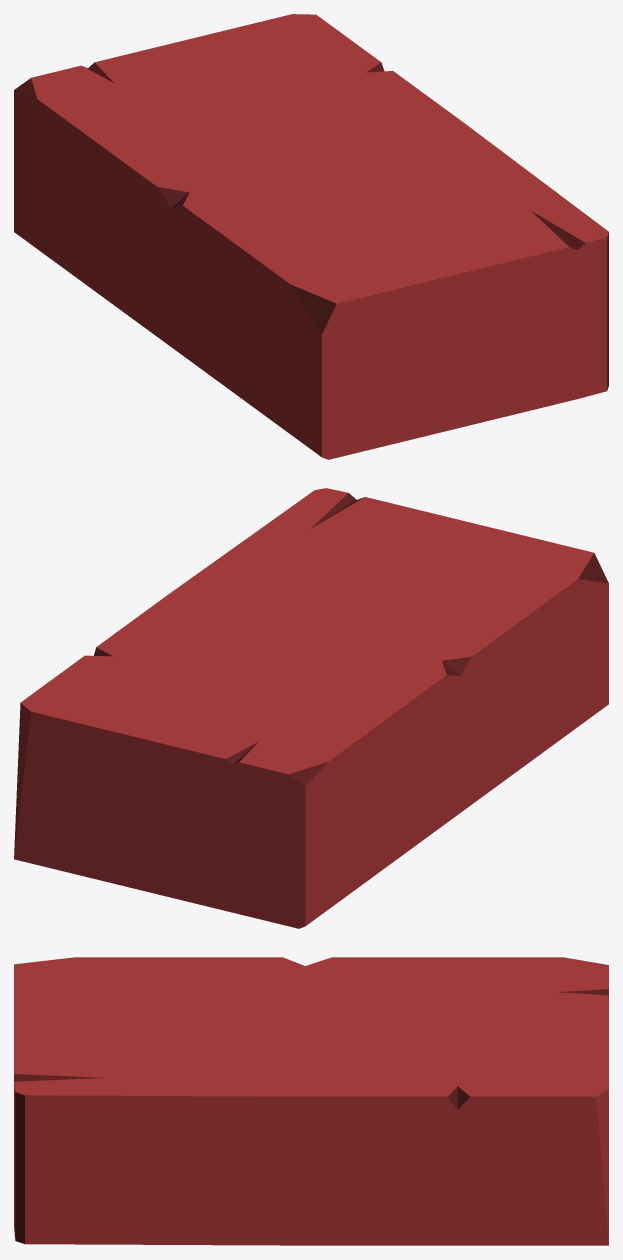
The picture shows the model from 3 angles, top to bottom: view 1: azimuth 30°, elevation 25°; view 2: azimuth 150°, elevation 25°; view 3: azimuth 270°, elevation 25°; orthographic projection. The views are drawn at different scales.
Visible parts, largest first — view 1: Box001; view 2: Box001; view 3: Box001.
Boxes of the visible parts, left/top/right/bottom form: Box001: left=14, top=14, right=608, bottom=459; Box001: left=14, top=488, right=608, bottom=928; Box001: left=14, top=957, right=608, bottom=1245.
Bounding box in the file's own units: 9.46 × 4.71 × 17.06.
1 material, 1 textured.
